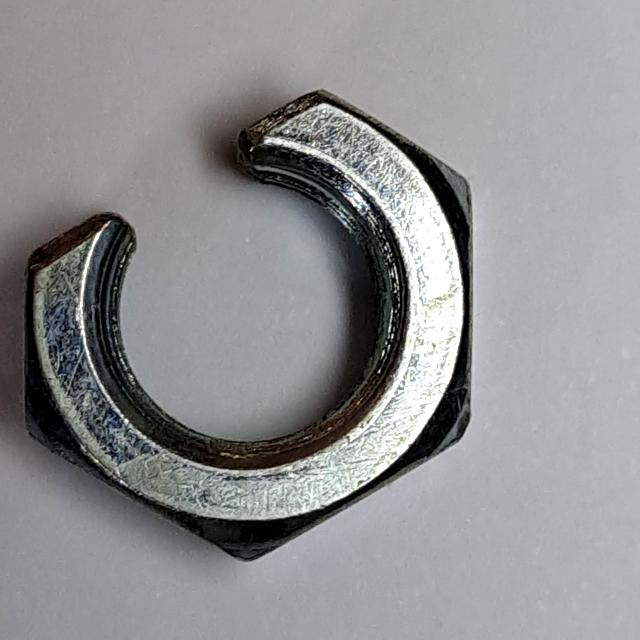Fracture: (15, 79, 490, 576)
